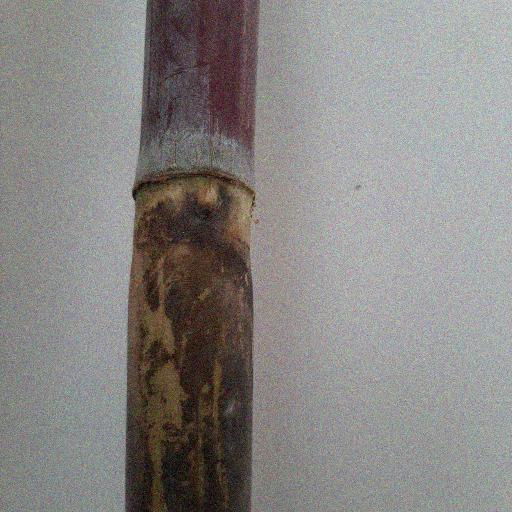Bud: (194, 178, 220, 215)
